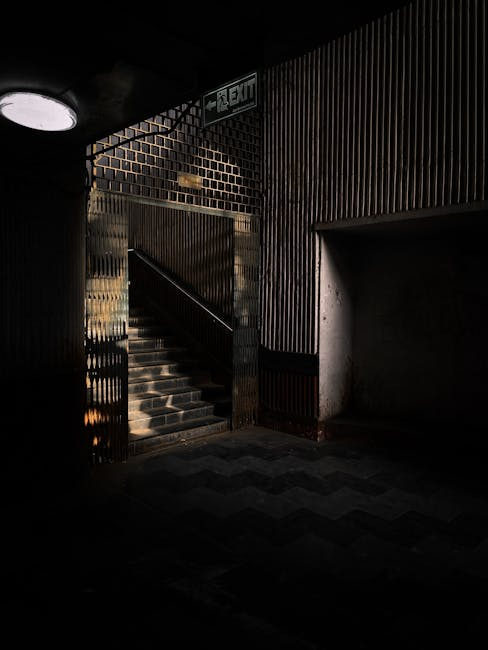emergency_exit: (199, 70, 259, 128)
